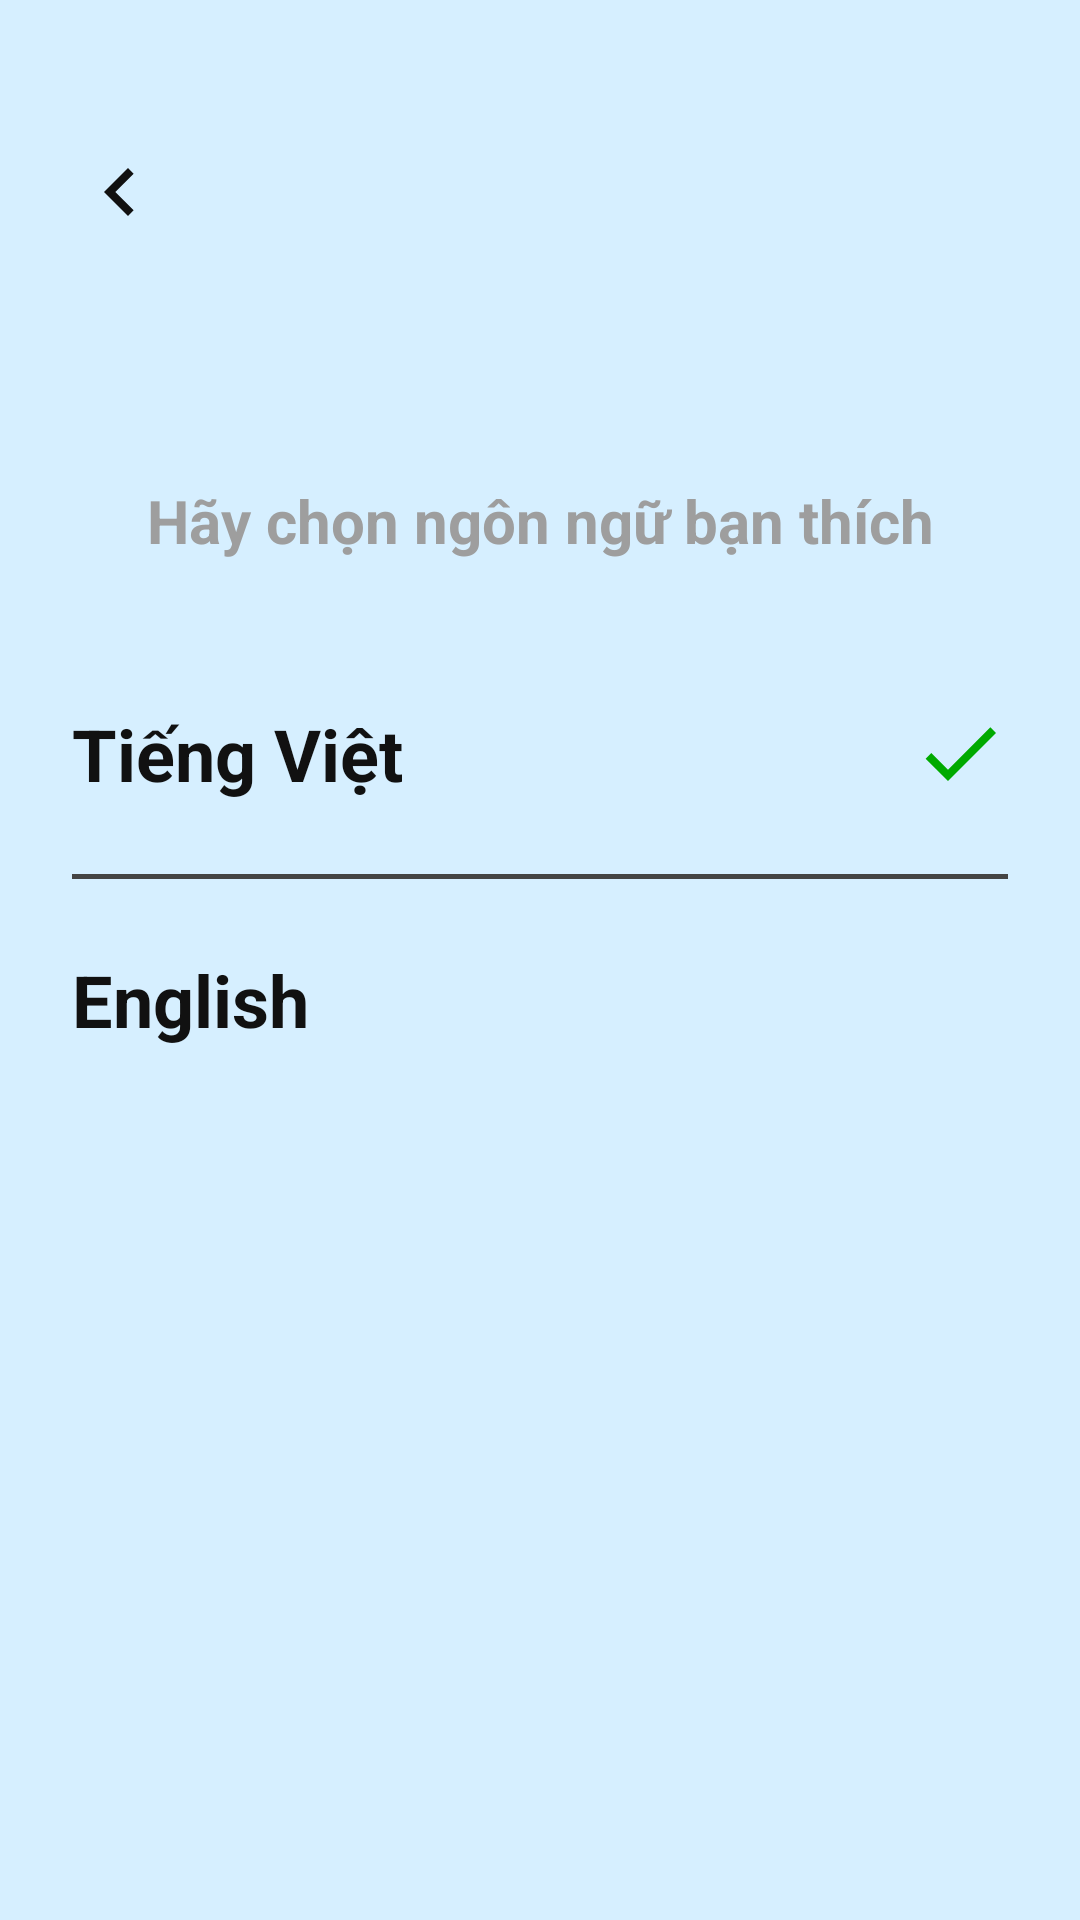

Where icons sit on this 1080px x 1920px app screen, as (x1, y1, x2, y2):
back arrow: (104, 168, 134, 216)
check: (925, 727, 996, 781)
